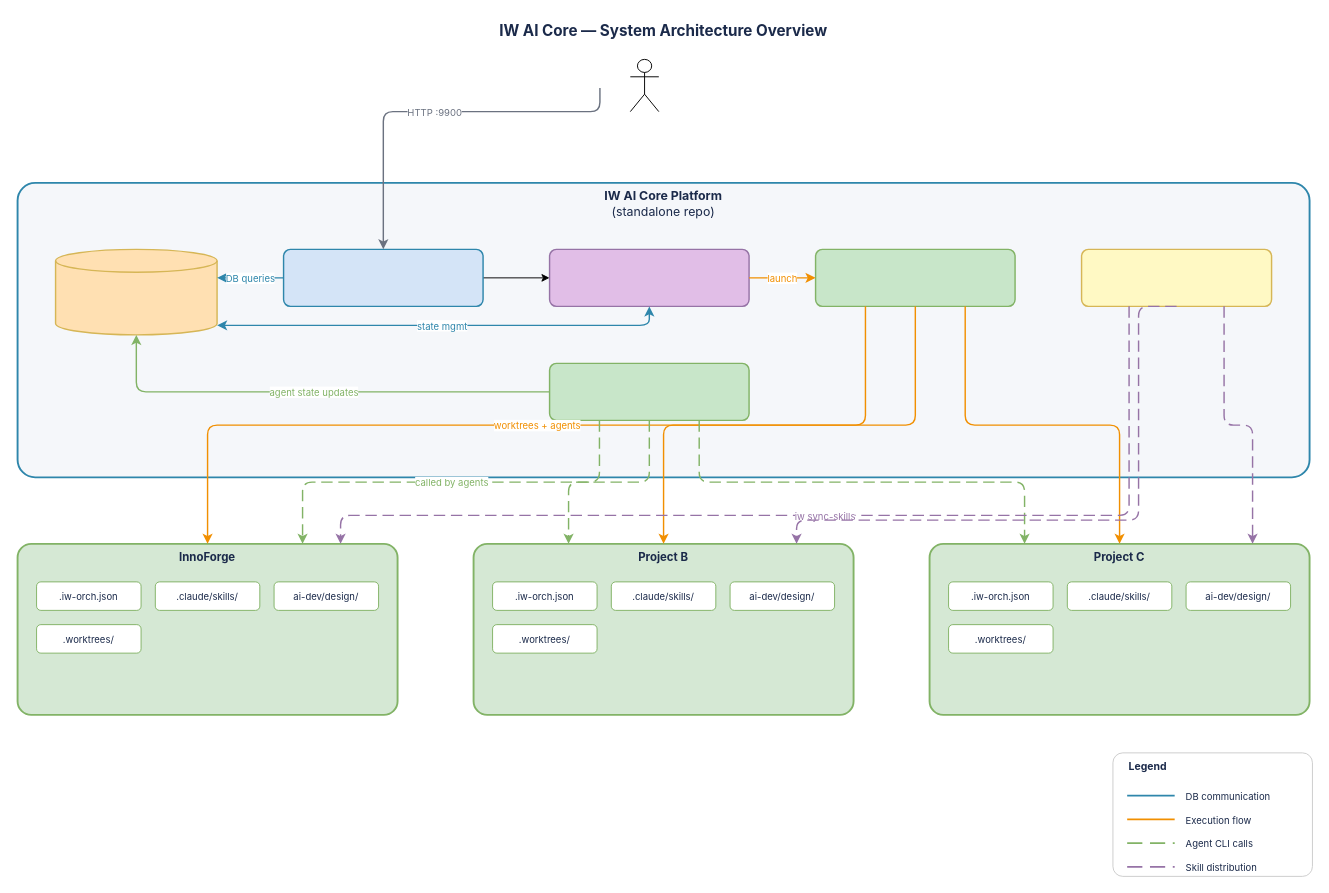
This 1329x893 diagram has some shape labels left out. Each missing label, with the centre of its shape:
"Developer Claude Code / Browser" belongs at point 644,85.
"Executor Scripts Bash / deterministic" belongs at point 914,277.
"iw CLI pip package / on PATH" belongs at point 648,391.
"Master Skills Base skill templates" belongs at point 1176,277.
"Multi-Project Daemon Python / single process" belongs at point 648,277.
"PostgreSQL port 5433 / iw_orch DB" belongs at point 135,291.
"Unified Dashboard FastAPI + htmx / port 9900" belongs at point 382,277.
